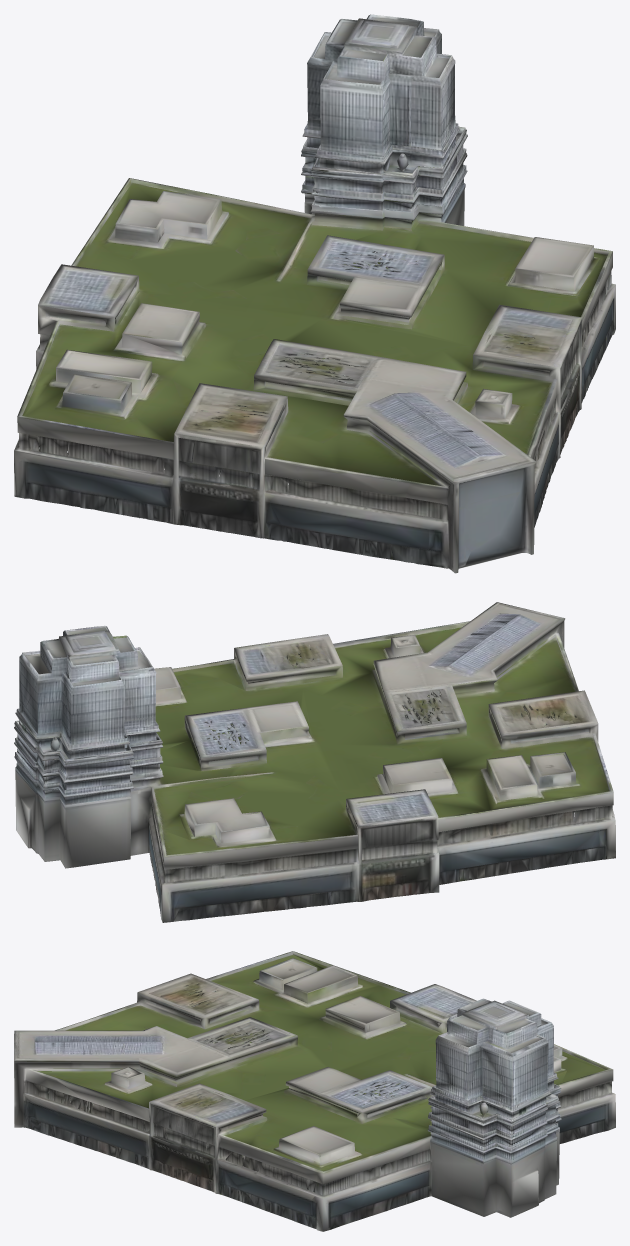
The model's file is mall.glb.
3 views of the same model, one above another, from view 1: azimuth 30°, elevation 25°; view 2: azimuth 150°, elevation 25°; view 3: azimuth 270°, elevation 25° (orthographic). The views are drawn at different scales.
Visible parts, largest first — view 1: node_0; view 2: node_0; view 3: node_0.
Part boxes in pixels (bbox=[...]): node_0: bbox=[14, 14, 615, 573]; node_0: bbox=[14, 602, 615, 922]; node_0: bbox=[14, 951, 615, 1231].
Size of the model in its own units: 0.9936 by 0.3685 by 1.13.
1 material, 1 textured.
